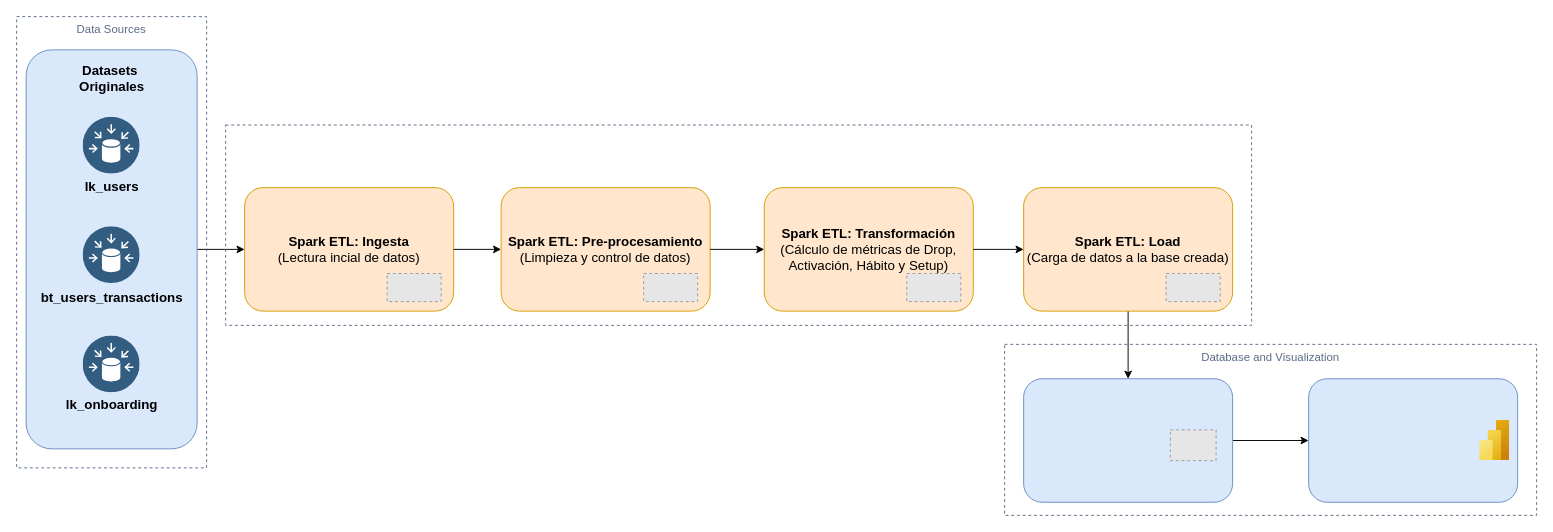
The diagram is 1553 pixels wide and 532 high, and some of its shapes have lost their labels. Grey dashed boxes stand in for pictures. The shapes that lost their labels are listed below. From the top down, each one's box as (x1, y1, x2, y2) in pixels, then its label:
(225, 124, 1252, 325): ETL Processes
(1023, 378, 1233, 502): Cassandra DB (Keyspace: fintech_onboarding)
(1308, 378, 1518, 502): Visualización (Funnel de Onboarding)
